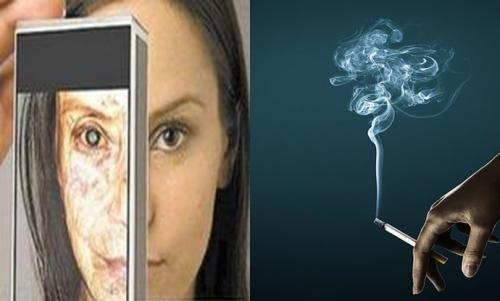yanwu: (331, 14, 439, 206)
